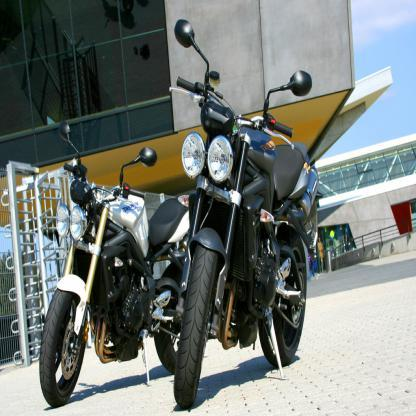motorcycle: (169, 21, 322, 407), (40, 121, 188, 408)
